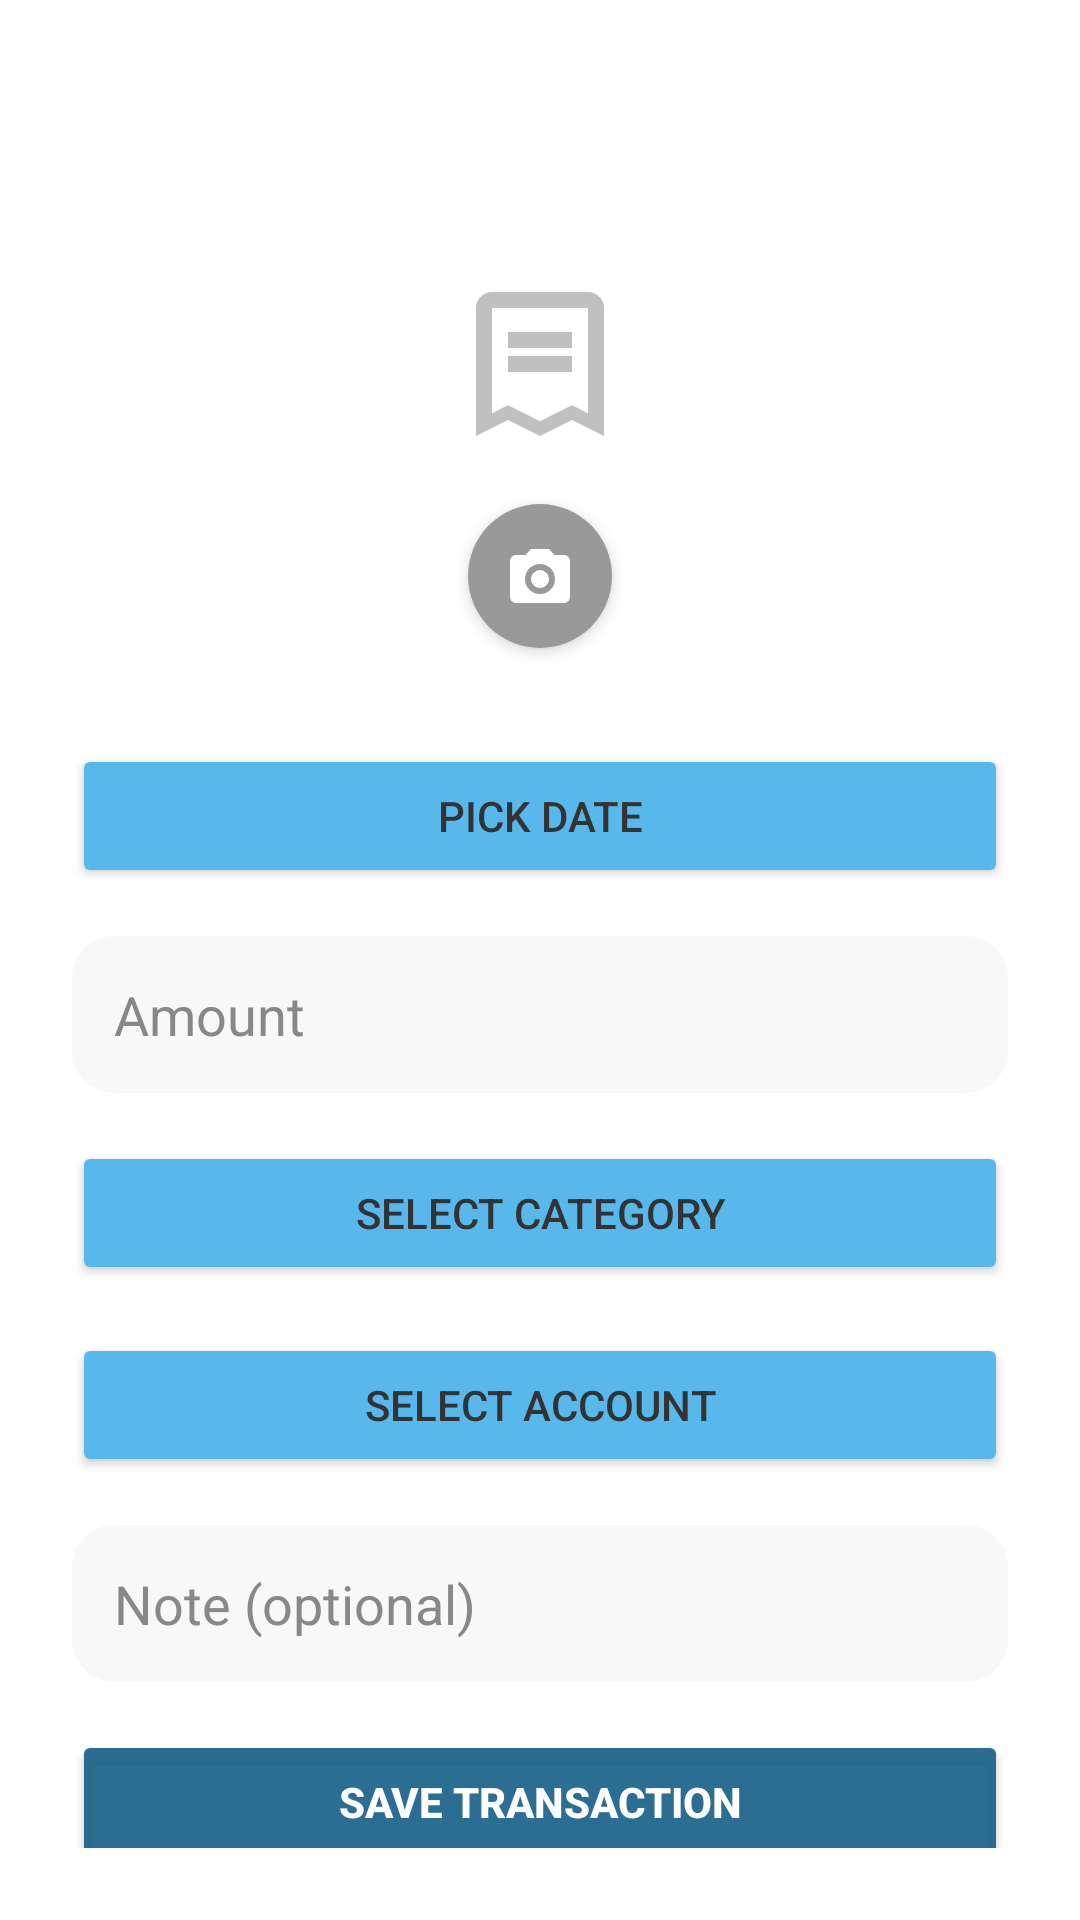

Named icons in this screenshot (1080px x 1920px) and their bounding boxes, (x1=x1, y1=y1, x2=x2, y2=y2):
Upload photo: (x1=468, y1=504, x2=612, y2=648)
